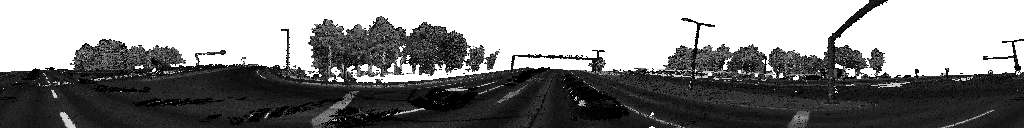gantry_sign_pole: (820, 0, 886, 104), (511, 54, 600, 77), (983, 56, 1021, 75), (194, 50, 226, 69)
light_pole: (681, 19, 714, 91), (280, 29, 289, 78), (1001, 39, 1023, 57), (120, 46, 125, 71), (592, 49, 605, 58)
traffic_pole: (344, 57, 349, 83), (152, 58, 158, 78), (915, 70, 918, 82), (945, 69, 948, 79)
